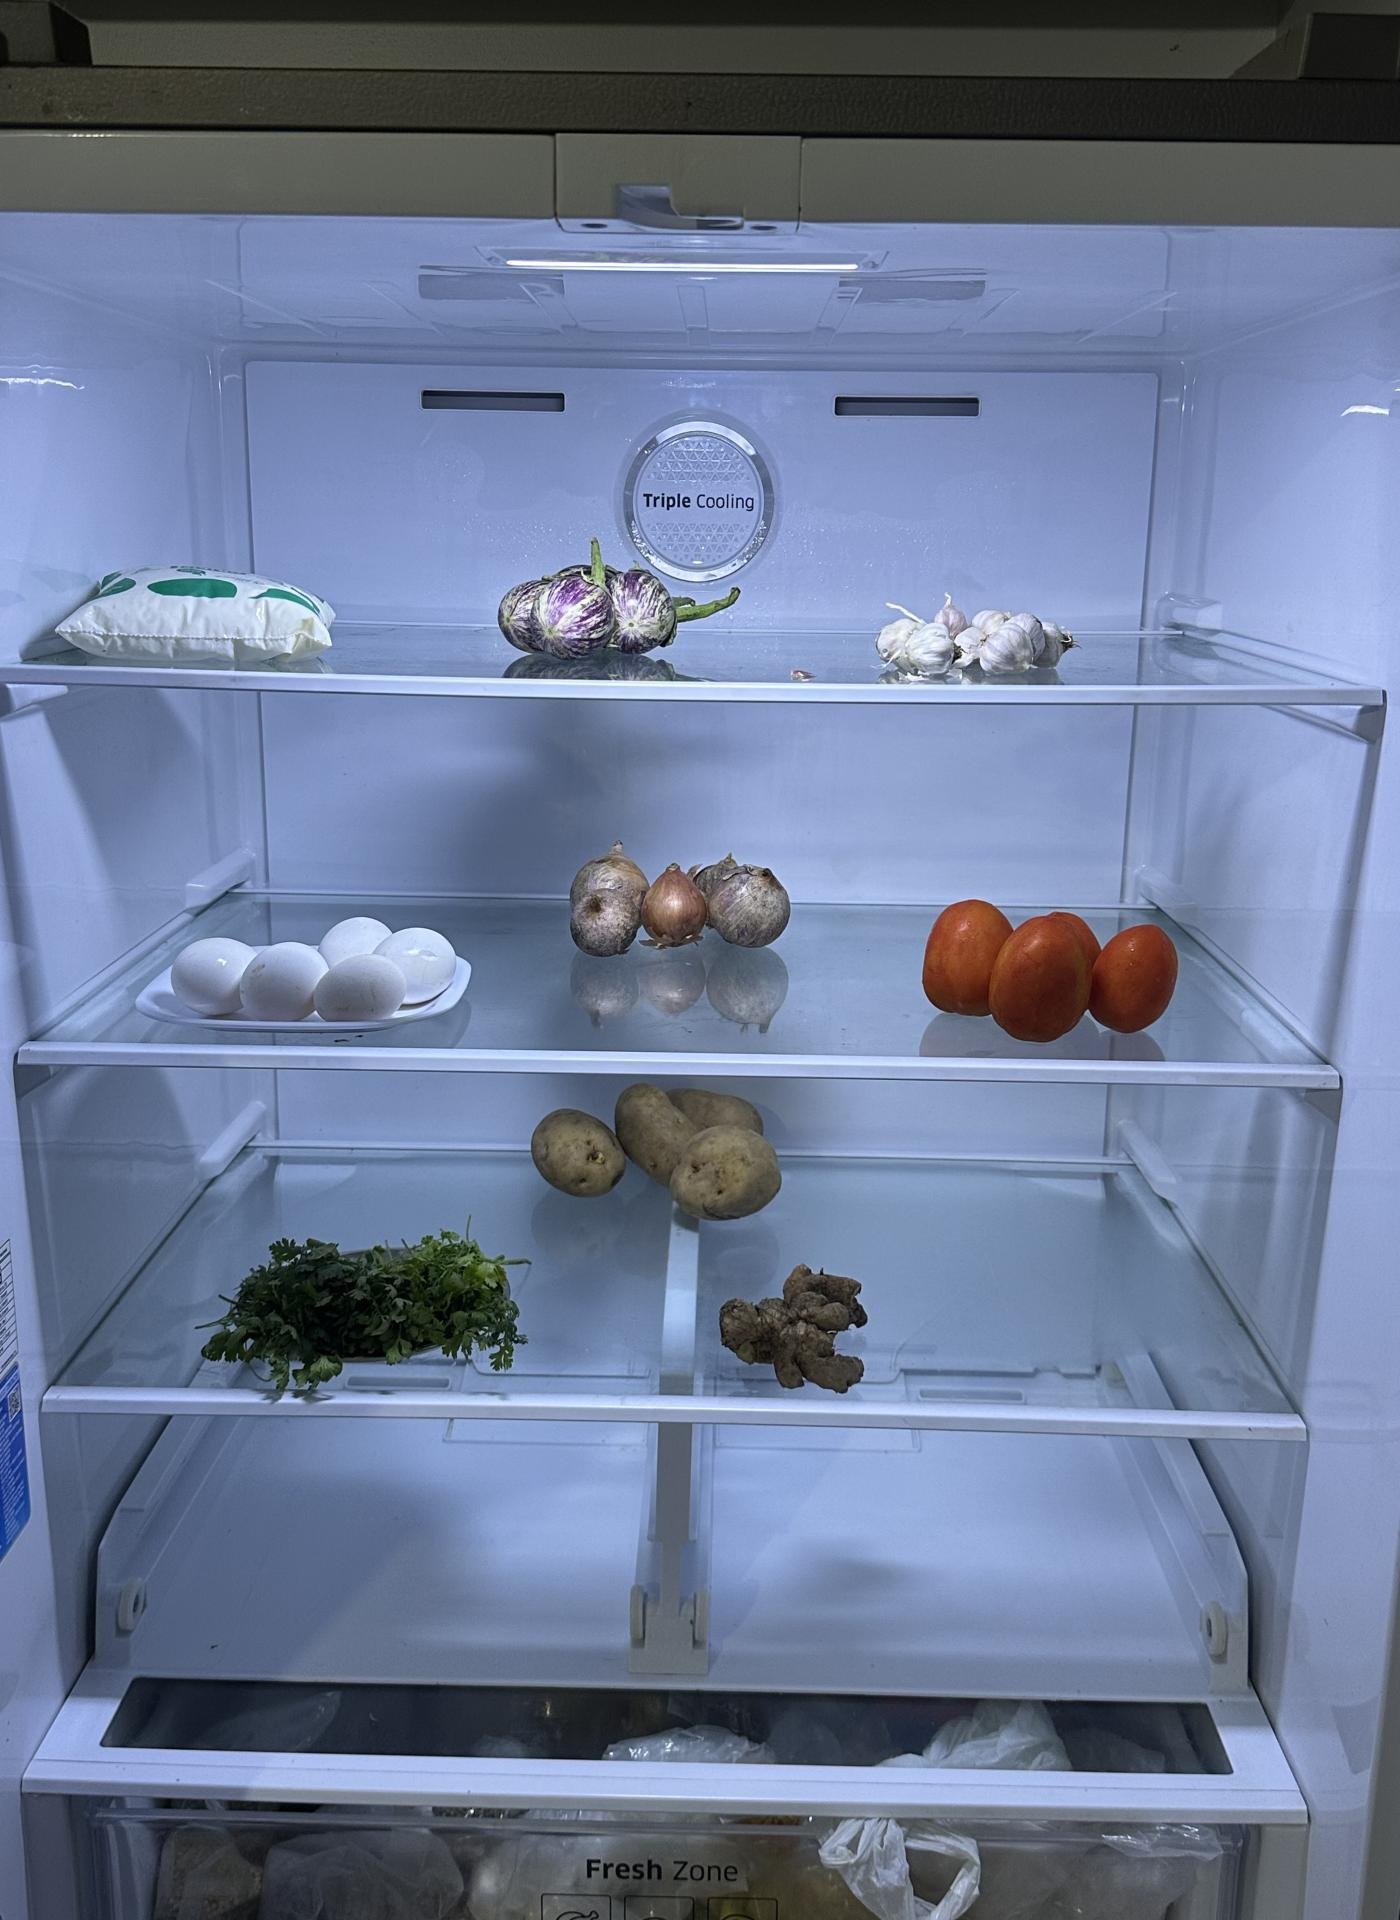brinjal: (492, 555, 725, 672)
coriander: (215, 1219, 525, 1379)
egg: (165, 905, 467, 1027)
garlic: (883, 592, 1079, 686)
ginger: (711, 1255, 880, 1403)
milk: (54, 552, 338, 665)
onion: (559, 832, 796, 951)
potato: (528, 1072, 798, 1215)
tomato: (918, 893, 1188, 1049)
